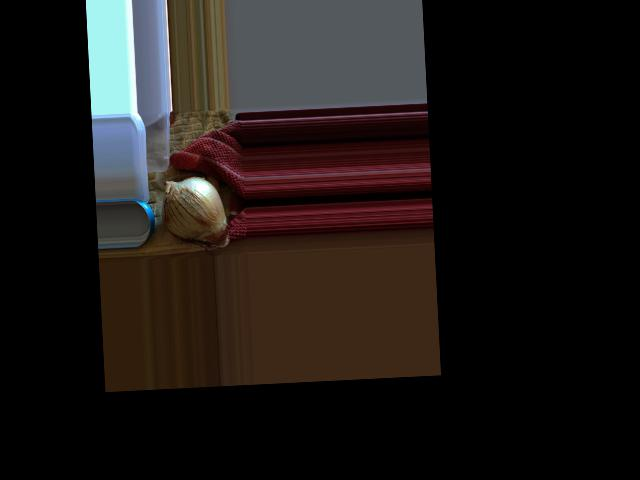onion: (159, 176, 230, 249)
